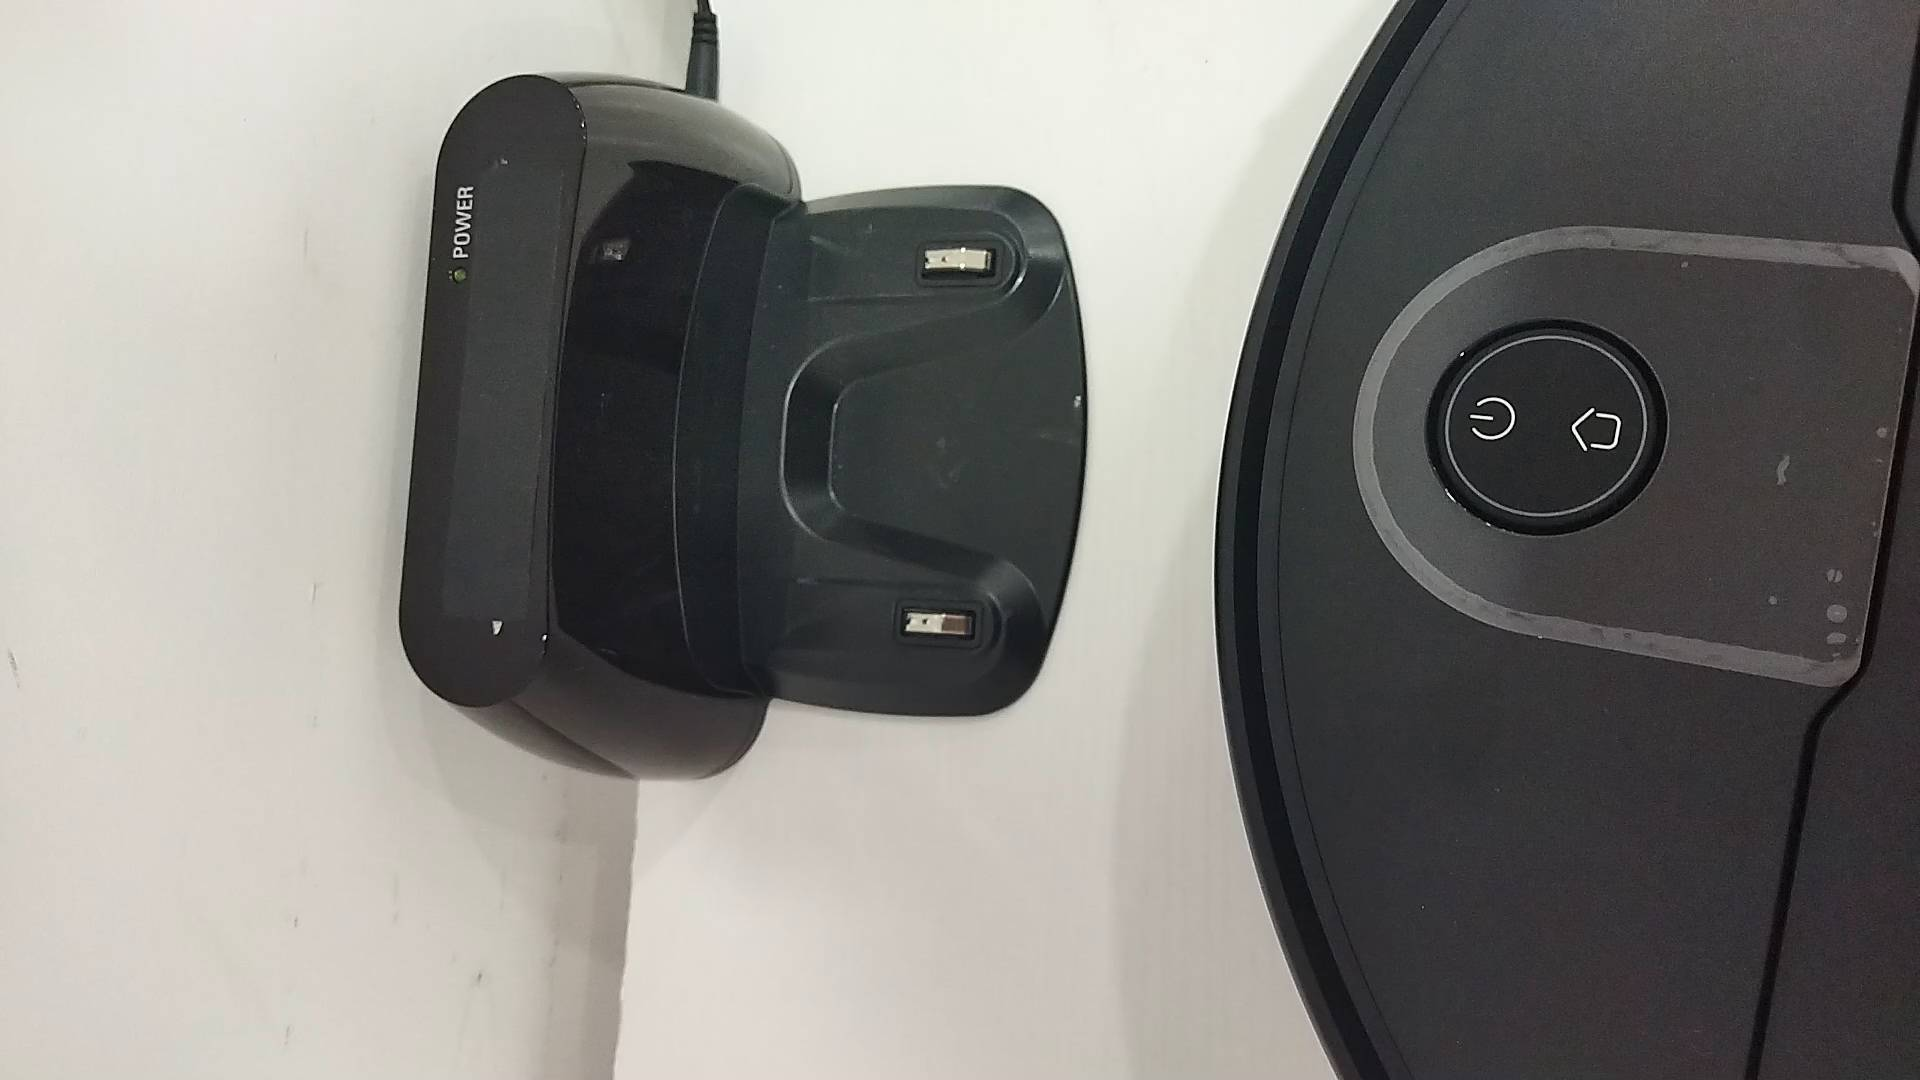recharge seat: (398, 69, 1092, 785)
